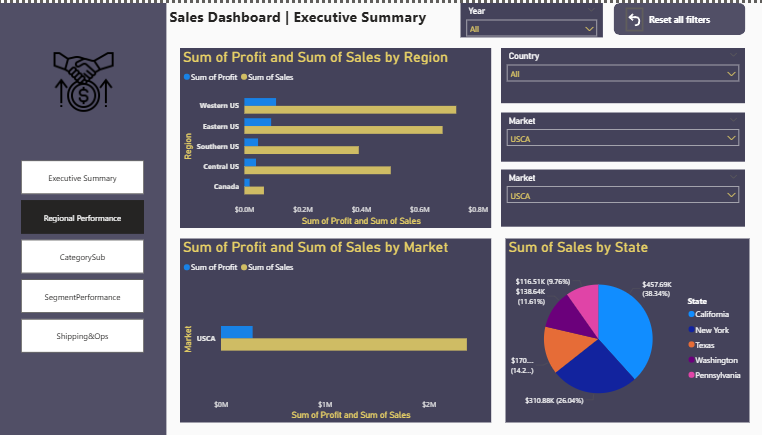

The page's visual inventory and layout, read from the dashboard file:
{"tool":"powerbi","page":{"name":"Regional Performance","canvas":[1280,720],"ordinal":1},"visuals":[{"type":"shape","box":[1021.7,0,220,53.3],"z":0},{"type":"shape","box":[0,0,277.6,1400.7],"z":1000},{"type":"pageNavigator","box":[35.7,262.9,205.7,322.9],"z":2000},{"type":"actionButton","box":[1041.7,8.3,30,40],"z":3000},{"type":"textbox","box":[278.6,0,488.6,72.9],"z":4000},{"type":"textbox","box":[1065,12.5,135,30],"z":5000},{"type":"slicer","fields":{"Values":["Date Table.Year"]},"box":[767.1,0,237.1,57.1],"z":6000},{"type":"clusteredBarChart","fields":{"Y":["Sum(Orders.Profit)","Sum(Orders.Sales)"],"Category":["Orders.Region"]},"box":[300,75,518.3,300],"z":7000},{"type":"pieChart","fields":{"Category":["Orders.State"],"Y":["Sum(Orders.Sales)"]},"box":[841.7,393.3,406.7,306.7],"z":8000},{"type":"clusteredBarChart","fields":{"Y":["Sum(Orders.Profit)","Sum(Orders.Sales)"],"Category":["Orders.Market"]},"box":[300,393.3,518.3,306.7],"z":9000},{"type":"slicer","fields":{"Values":["Orders.Country"]},"box":[835,75,406.7,91.7],"z":10000},{"type":"image","box":[64.3,75.7,148.6,112.9],"z":11000},{"type":"slicer","fields":{"Values":["Orders.Market"]},"box":[835,181.7,406.7,81.7],"z":12000},{"type":"slicer","fields":{"Values":["Orders.Market"]},"box":[835,278.3,406.7,95],"z":13000}]}

Visuals, with their boxes on the page's 1280x720 design canvas (x1, y1, x2, y2). These are canvas units, not pixel positions in the 762x435 screenshot, which may show the page scaled, cropped or inside an application window:
shape: {"x1": 1022, "y1": 0, "x2": 1242, "y2": 53}
shape: {"x1": 0, "y1": 0, "x2": 278, "y2": 1401}
pageNavigator: {"x1": 36, "y1": 263, "x2": 241, "y2": 586}
actionButton: {"x1": 1042, "y1": 8, "x2": 1072, "y2": 48}
textbox: {"x1": 279, "y1": 0, "x2": 767, "y2": 73}
textbox: {"x1": 1065, "y1": 12, "x2": 1200, "y2": 42}
slicer - Date Table.Year: {"x1": 767, "y1": 0, "x2": 1004, "y2": 57}
clusteredBarChart - Sum(Orders.Profit) x Sum(Orders.Sales): {"x1": 300, "y1": 75, "x2": 818, "y2": 375}
pieChart - Orders.State x Sum(Orders.Sales): {"x1": 842, "y1": 393, "x2": 1248, "y2": 700}
clusteredBarChart - Sum(Orders.Profit) x Sum(Orders.Sales): {"x1": 300, "y1": 393, "x2": 818, "y2": 700}
slicer - Orders.Country: {"x1": 835, "y1": 75, "x2": 1242, "y2": 167}
image: {"x1": 64, "y1": 76, "x2": 213, "y2": 189}
slicer - Orders.Market: {"x1": 835, "y1": 182, "x2": 1242, "y2": 263}
slicer - Orders.Market: {"x1": 835, "y1": 278, "x2": 1242, "y2": 373}
